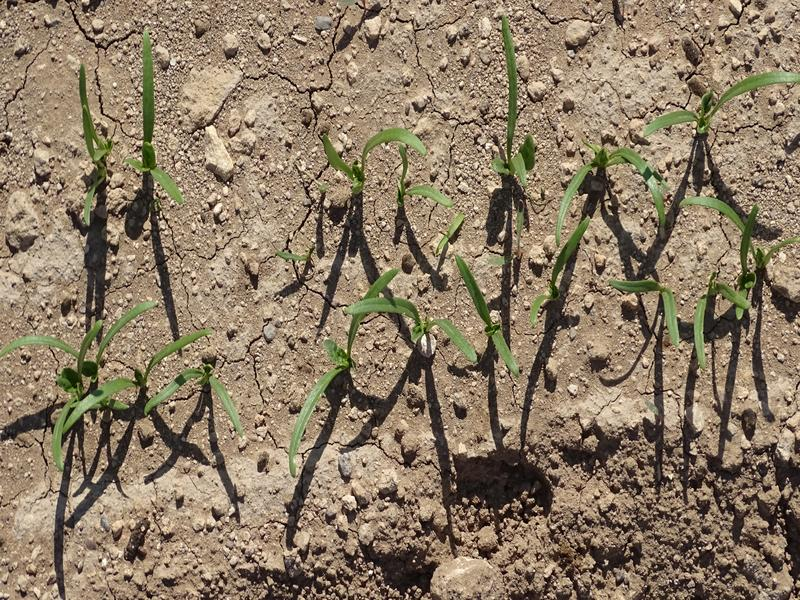Espinaca: (552, 84, 773, 355), (295, 281, 472, 463), (35, 311, 254, 449), (67, 44, 194, 211), (312, 123, 451, 215), (492, 25, 547, 182), (461, 258, 523, 380)
